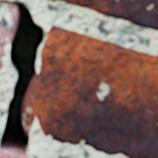brick: (30, 25, 157, 157), (54, 0, 157, 29), (0, 22, 13, 57), (0, 148, 28, 157), (8, 9, 13, 19), (0, 60, 2, 69)
crack: (0, 1, 45, 155)
